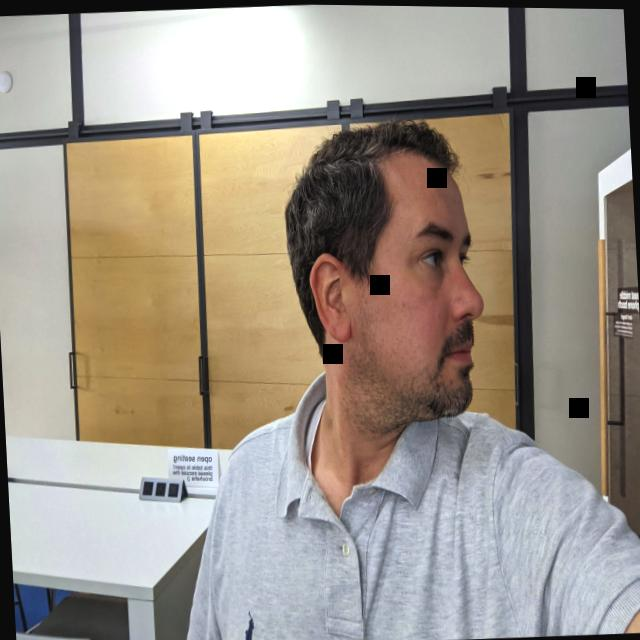NO-Mask: (324, 164, 492, 425)
